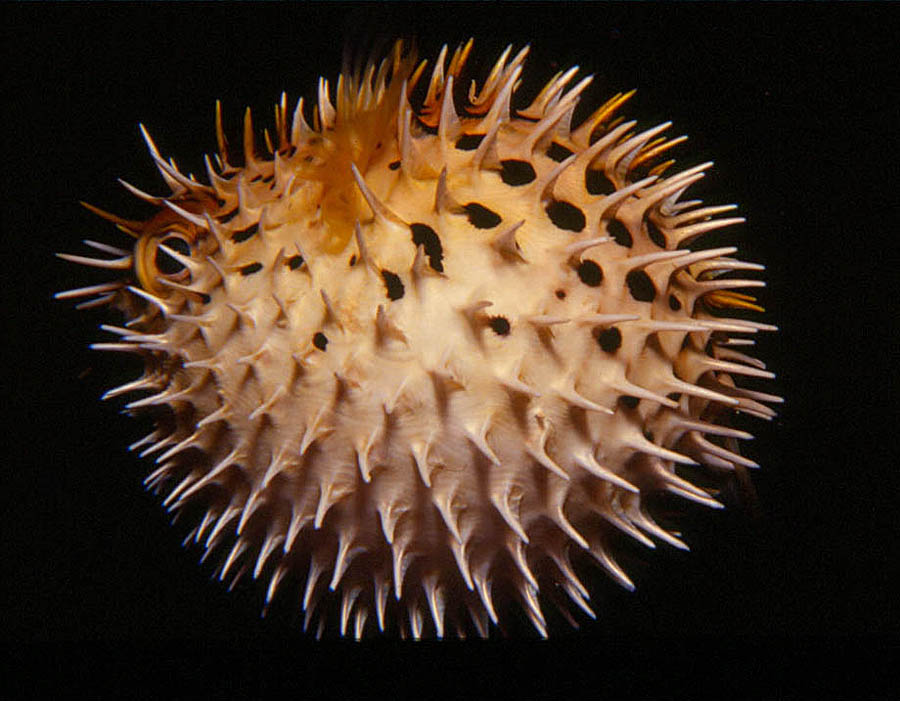Diodon_holocanthus: (33, 32, 795, 647)
